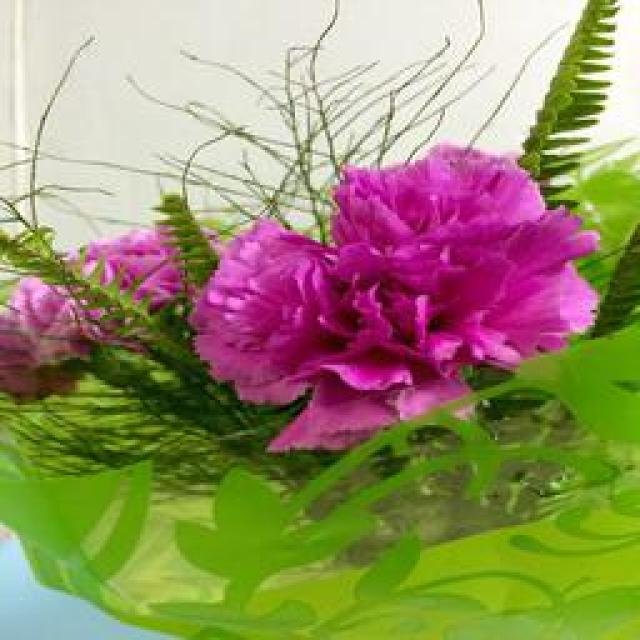carnation: (190, 154, 596, 462)
